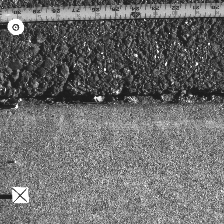circle: (6, 18, 25, 36)
crack: (1, 91, 223, 107)
square: (11, 187, 29, 203)
